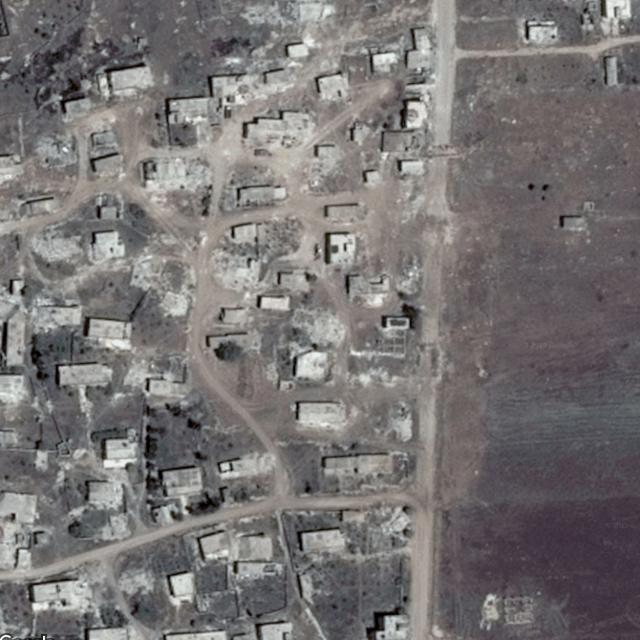damaged_building: (138, 157, 215, 204), (131, 252, 186, 313), (207, 248, 266, 299), (26, 578, 98, 615), (293, 308, 349, 352), (25, 227, 86, 261), (30, 136, 83, 175), (27, 297, 82, 330), (217, 452, 280, 479), (372, 507, 410, 542), (91, 514, 134, 542), (384, 403, 414, 441), (116, 568, 156, 594), (120, 360, 155, 389)
